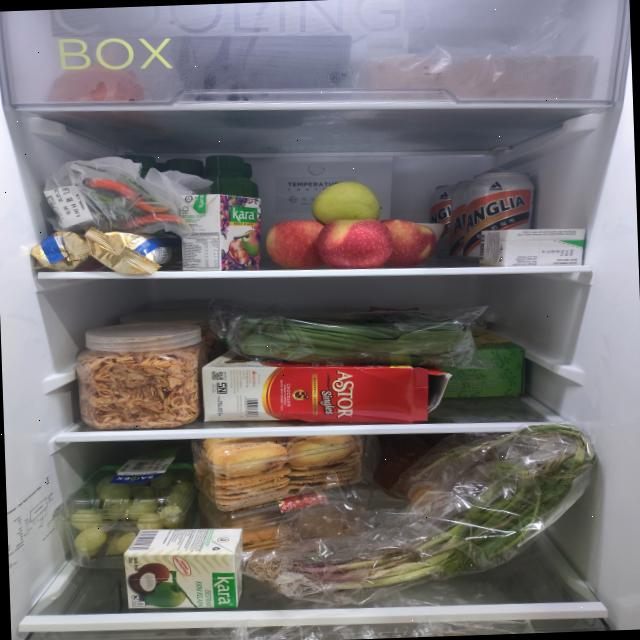apple: (263, 178, 436, 272)
chili: (85, 176, 183, 230)
coconut_milk: (121, 524, 245, 612), (180, 192, 264, 272)
grape: (52, 449, 202, 571)
leafy_greens: (237, 308, 476, 372)
spring_onion: (242, 420, 600, 592)
